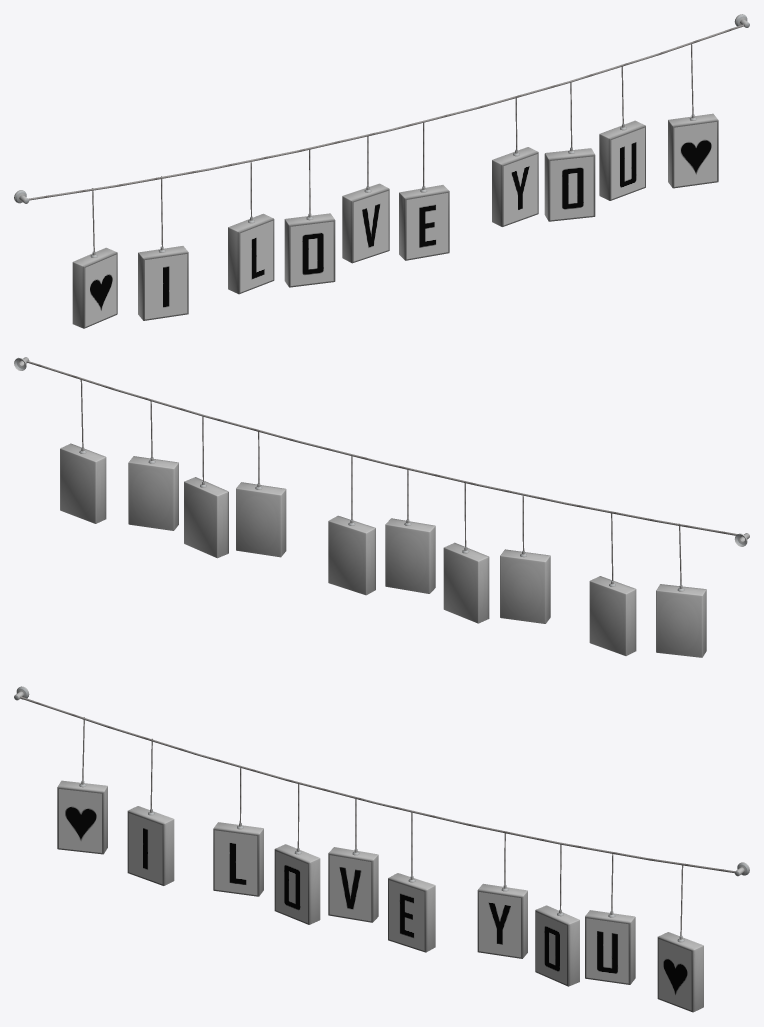
File: LettersLightBox01_GR2.FBX
3 renders of one model, top to bottom at view 1: azimuth 30°, elevation 25°; view 2: azimuth 150°, elevation 25°; view 3: azimuth 330°, elevation 25°, orthographic.
Visible parts, largest first — view 1: LettersLightBox01_GR2; view 2: LettersLightBox01_GR2; view 3: LettersLightBox01_GR2.
Boxes of the visible parts, x1,y1,x2,y2 form: LettersLightBox01_GR2: (14,14,749,328); LettersLightBox01_GR2: (14,357,749,657); LettersLightBox01_GR2: (14,686,749,1012).
Size of what is drawn, in the model's own units: 3.06 by 0.6191 by 0.1095.
